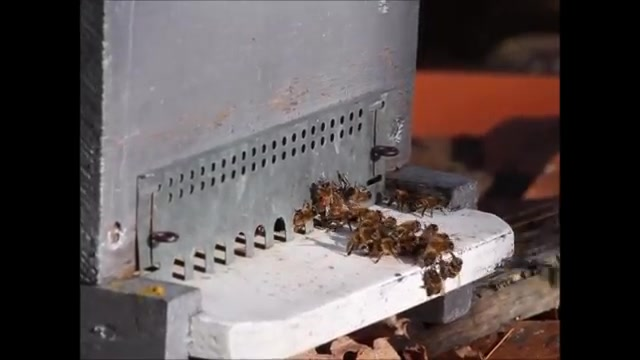bee: (327, 208, 435, 231), (389, 188, 444, 215), (377, 231, 423, 258), (296, 202, 321, 229), (428, 235, 456, 258), (342, 183, 374, 203), (314, 180, 335, 210), (347, 233, 376, 252), (446, 256, 466, 283), (421, 271, 445, 293)
